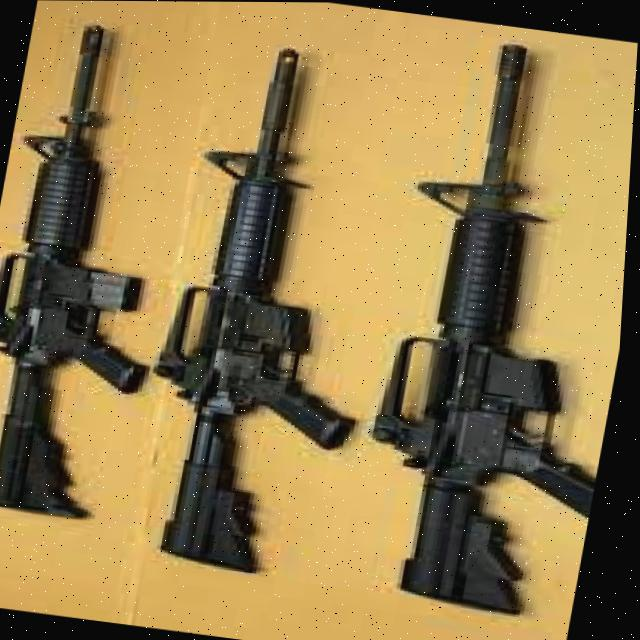firearm: (341, 31, 639, 622), (126, 35, 422, 581), (0, 16, 206, 522)
